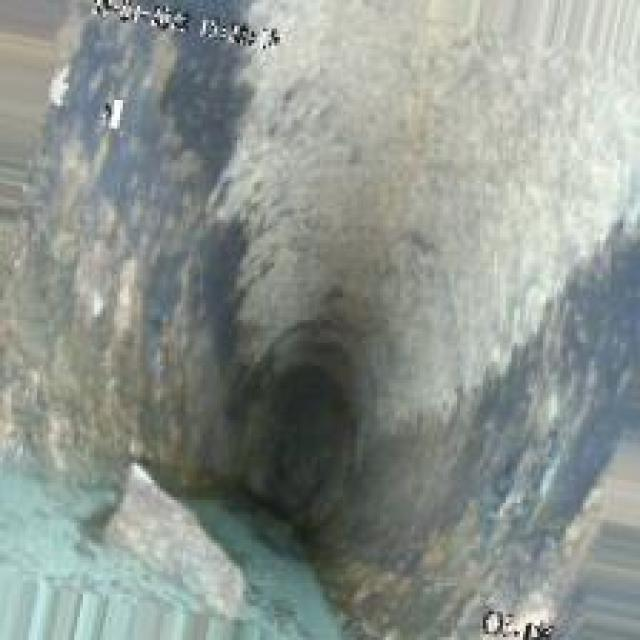stone: (89, 443, 257, 606)
